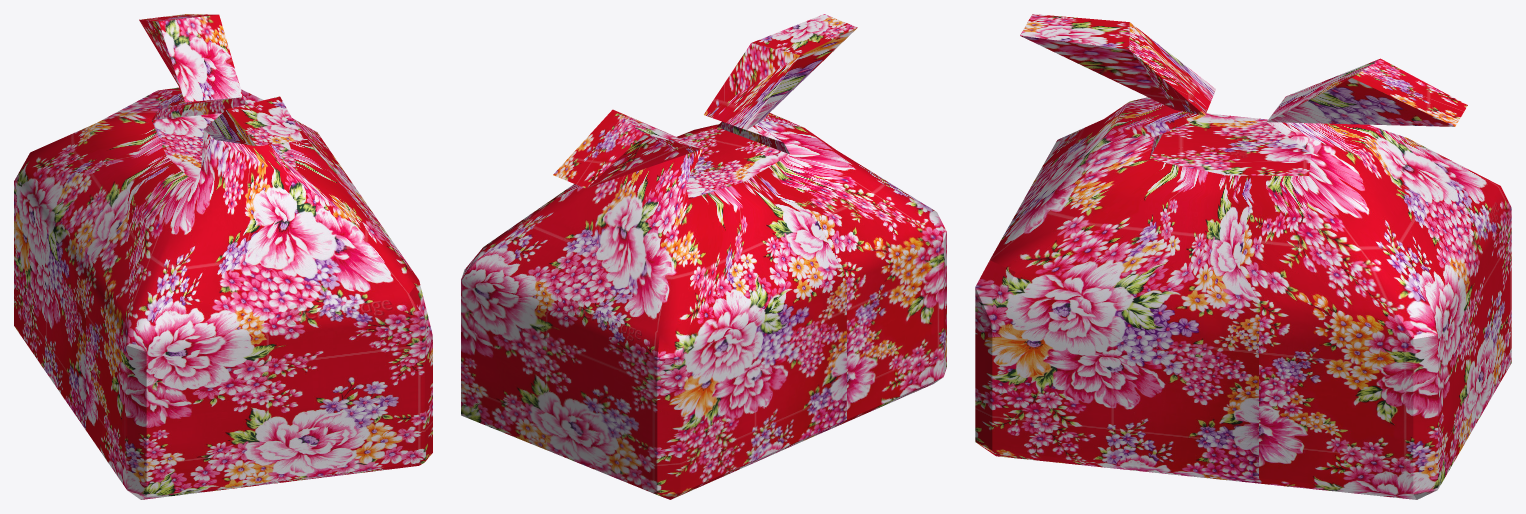
Rendered from bento.fbx.
3 renders of one model, left to right at view 1: azimuth 30°, elevation 25°; view 2: azimuth 150°, elevation 25°; view 3: azimuth 270°, elevation 25°, orthographic. The views are drawn at different scales.
Visible parts, largest first — view 1: pCube1; view 2: pCube1; view 3: pCube1.
Boxes of the visible parts, x1,y1,x2,y2 form: pCube1: (14,14,432,499); pCube1: (461,14,946,499); pCube1: (975,14,1511,499).
Size of the model in its own units: 17.44 by 16.25 by 21.55.
